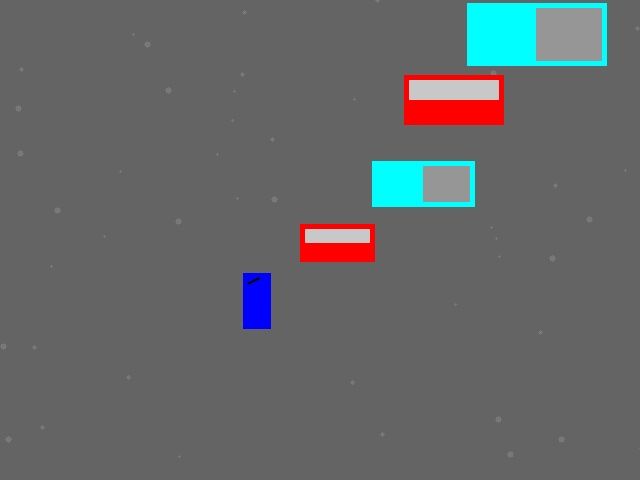car: (404, 75, 503, 124), (300, 224, 374, 261)
motorcycle: (243, 273, 270, 328)
truck: (467, 3, 606, 65), (372, 161, 474, 206)
